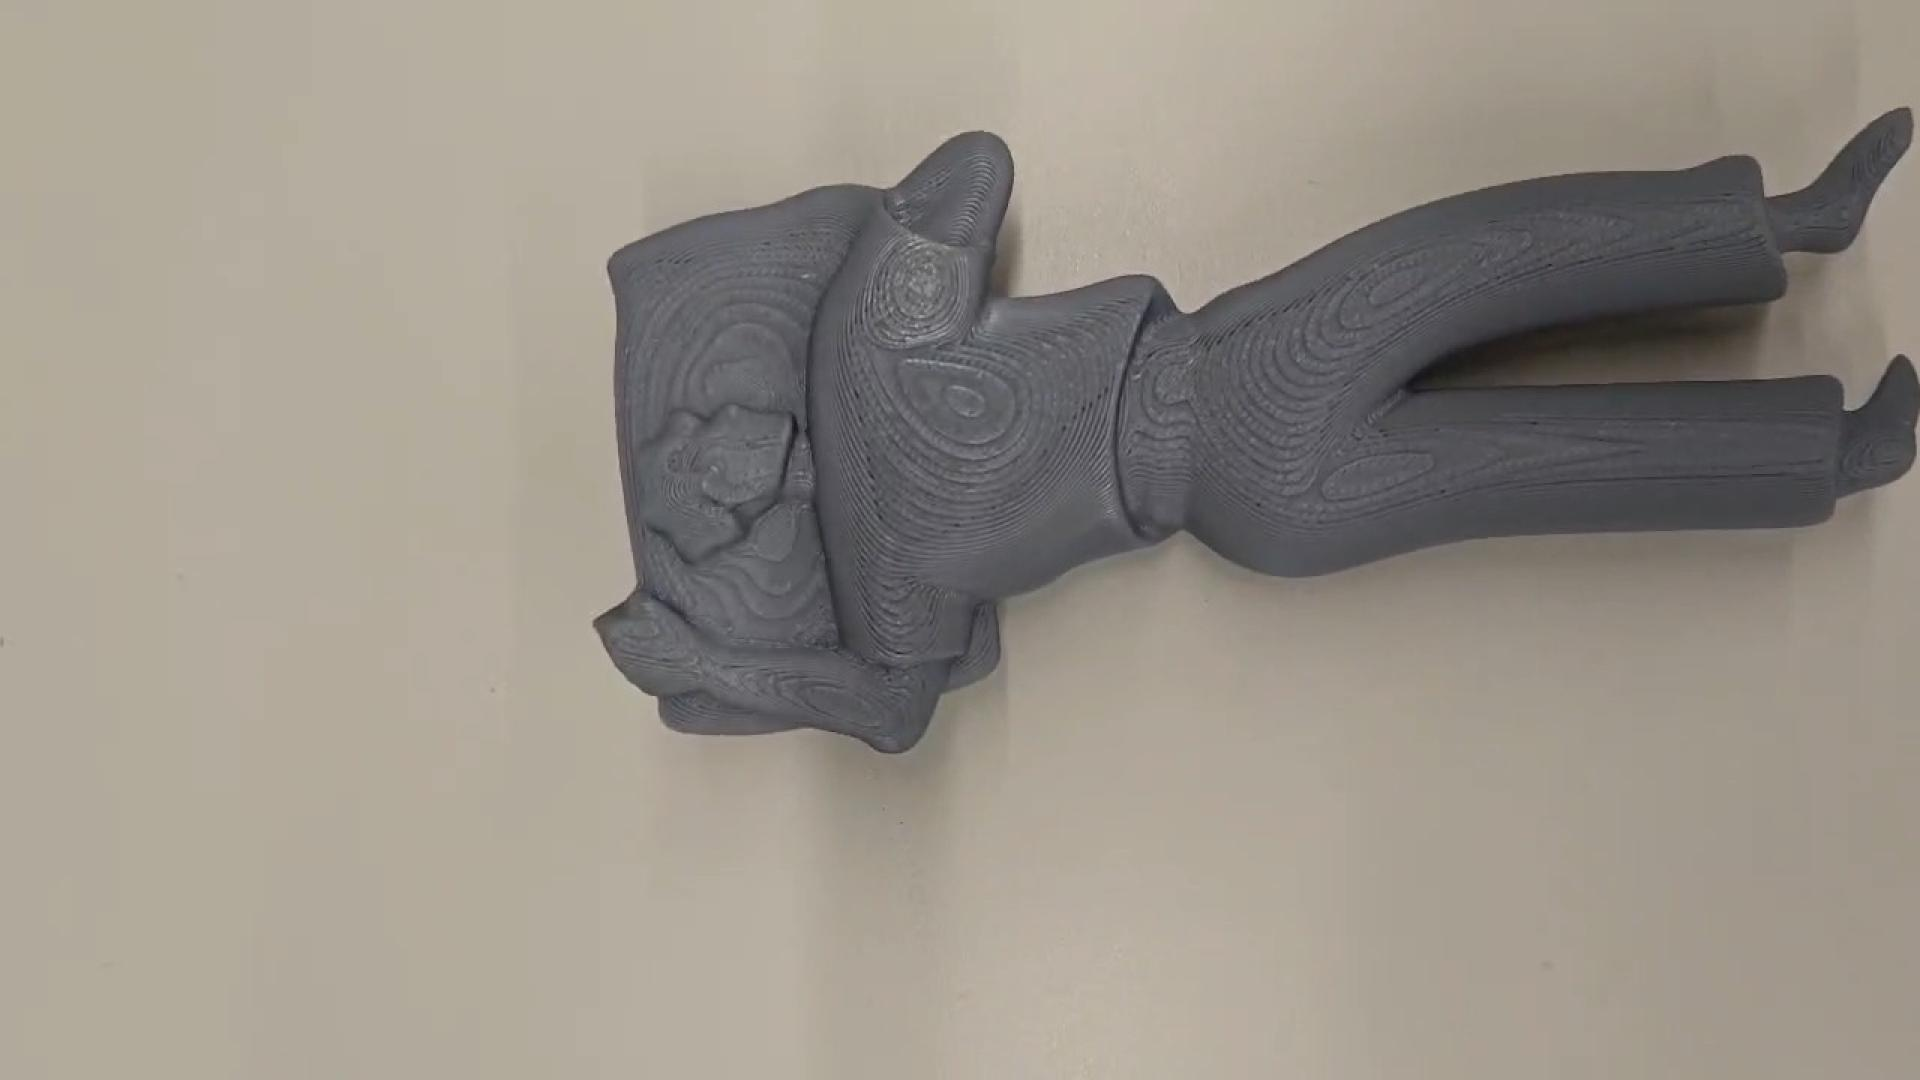Bad-style: (599, 92, 1920, 754)
